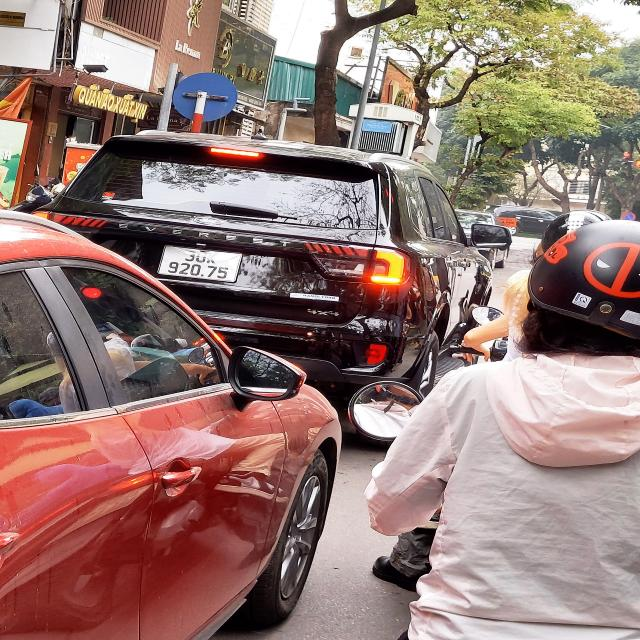license_plate: (157, 246, 244, 284)
